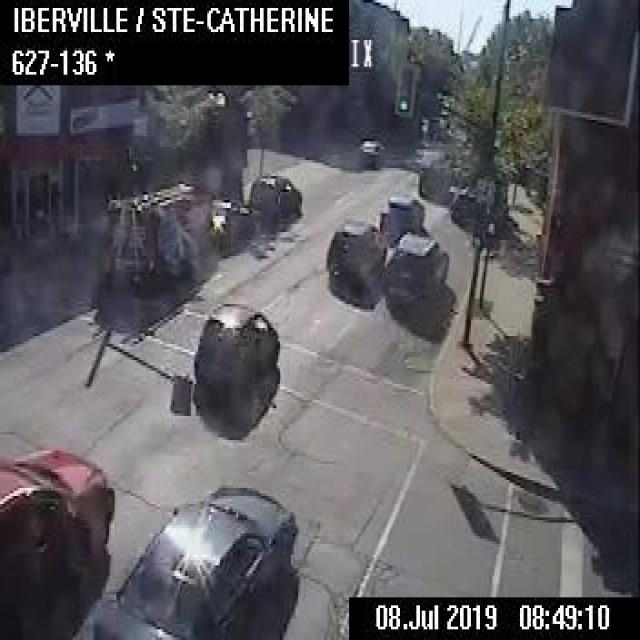vehicle: (78, 483, 295, 637), (0, 443, 115, 637), (105, 177, 261, 288), (193, 299, 278, 392), (382, 229, 447, 309), (325, 216, 387, 292), (247, 168, 304, 216), (379, 192, 423, 238), (416, 151, 449, 195), (358, 134, 384, 157)
